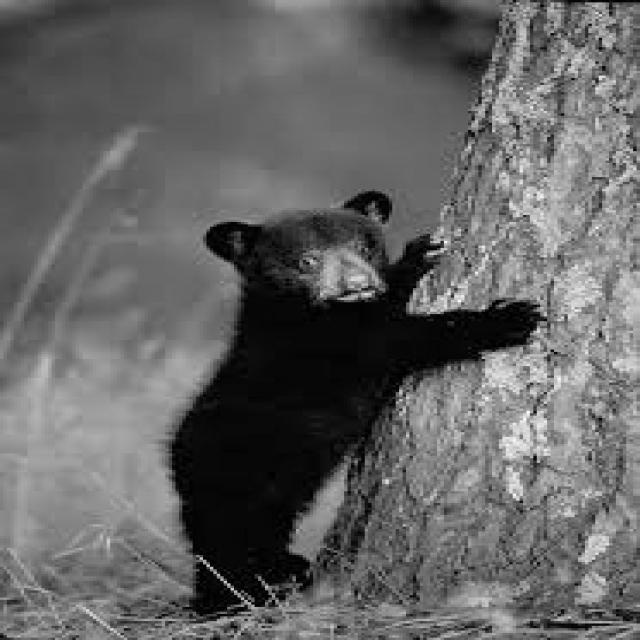Bear: (191, 204, 483, 606)
